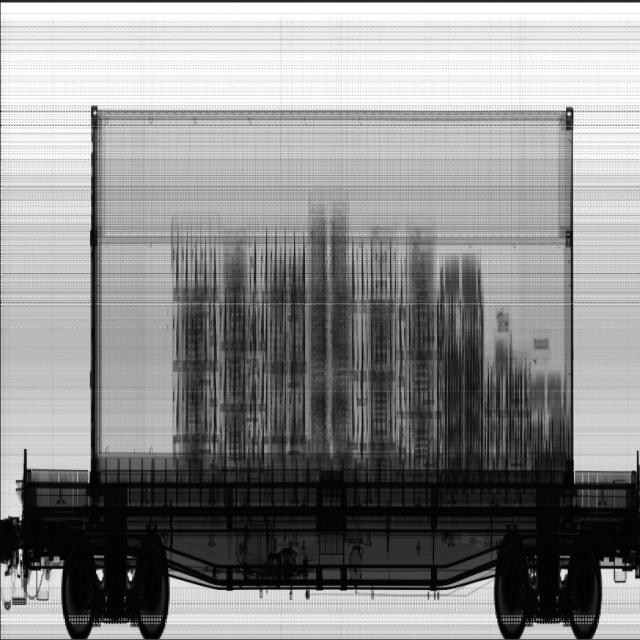auto parts: (310, 196, 350, 461)
